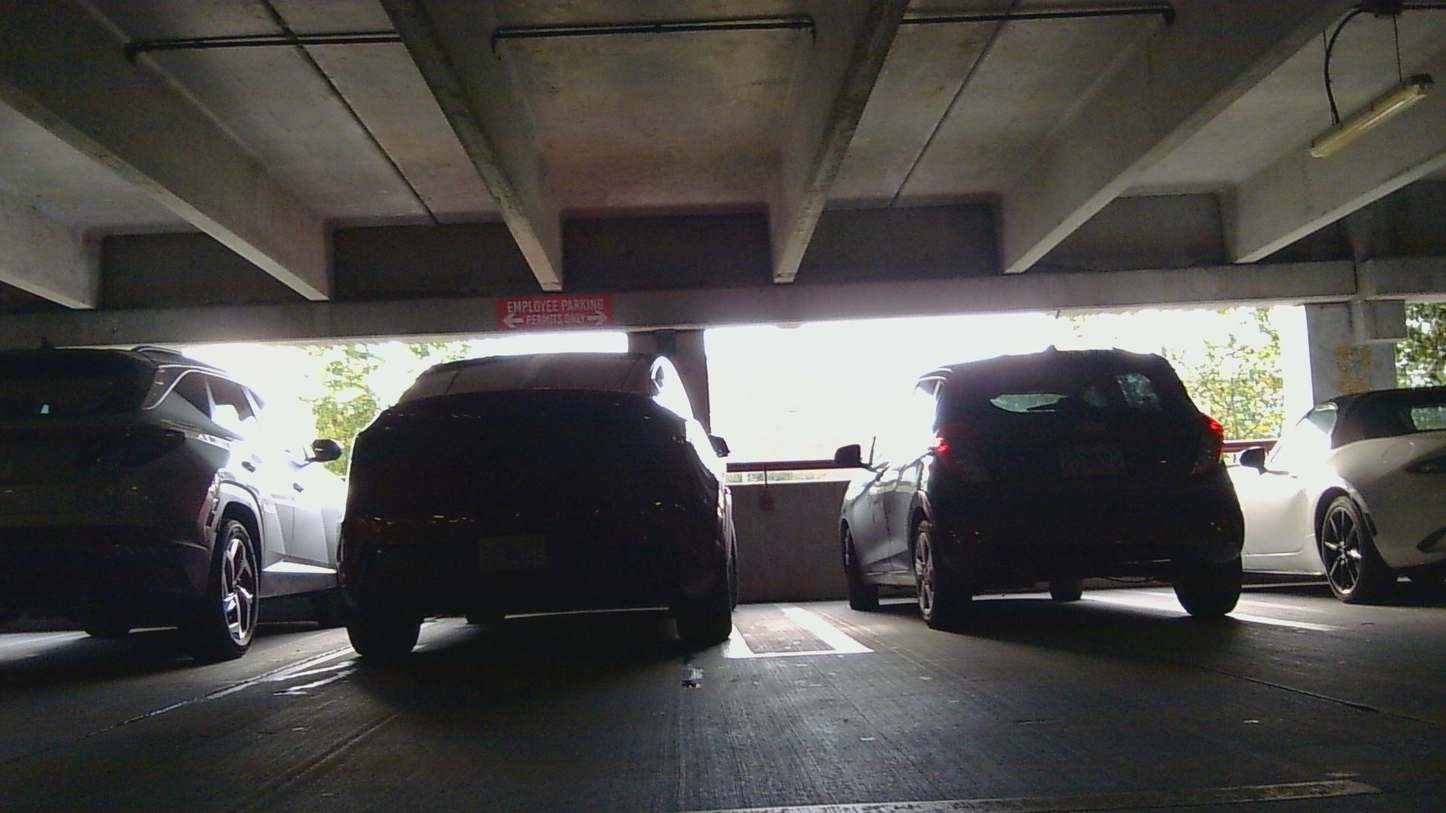occupied_spot: (313, 334, 754, 689), (831, 345, 1276, 649), (1, 340, 342, 664), (1224, 386, 1446, 597)
